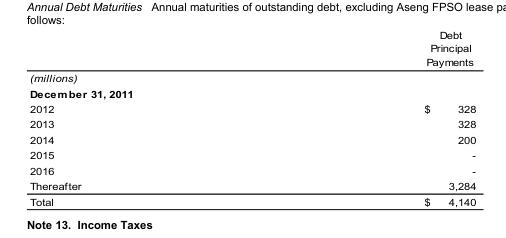table: (29, 28, 475, 206)
table column: (251, 28, 475, 206), (29, 28, 251, 206)
table column header: (29, 28, 475, 69)
table projected row header: (29, 69, 475, 85), (29, 85, 475, 100)
table row: (29, 28, 475, 69), (29, 69, 475, 85), (29, 100, 475, 116), (29, 131, 475, 147), (29, 177, 475, 193), (29, 85, 475, 100), (29, 116, 475, 131), (29, 147, 475, 162), (29, 162, 475, 177), (29, 193, 475, 206)
